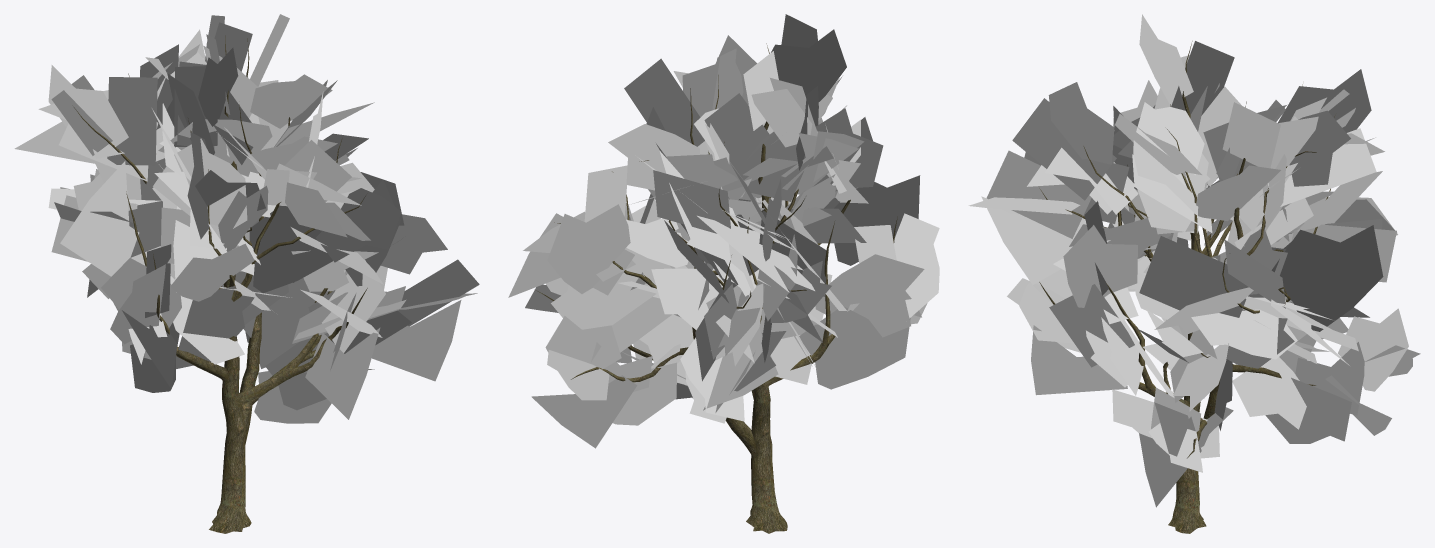
File: Tree_4828.fbx
The picture shows the model from 3 angles, left to right: view 1: azimuth 30°, elevation 25°; view 2: azimuth 150°, elevation 25°; view 3: azimuth 270°, elevation 25°; orthographic projection.
Visible parts, largest first — view 1: Tree_4828_Viaz_AT, Tree_4828_VIAZ_bARK; view 2: Tree_4828_Viaz_AT, Tree_4828_VIAZ_bARK; view 3: Tree_4828_Viaz_AT, Tree_4828_VIAZ_bARK.
Part boxes in pixels (x1,y1,x2,y2): Tree_4828_Viaz_AT: (14, 14, 479, 423); Tree_4828_VIAZ_bARK: (74, 35, 367, 533); Tree_4828_Viaz_AT: (508, 14, 939, 448); Tree_4828_VIAZ_bARK: (536, 43, 897, 533); Tree_4828_Viaz_AT: (968, 14, 1420, 507); Tree_4828_VIAZ_bARK: (1039, 41, 1335, 533).
Bounding box in the file's own units: 85.23 × 104 × 87.64.
